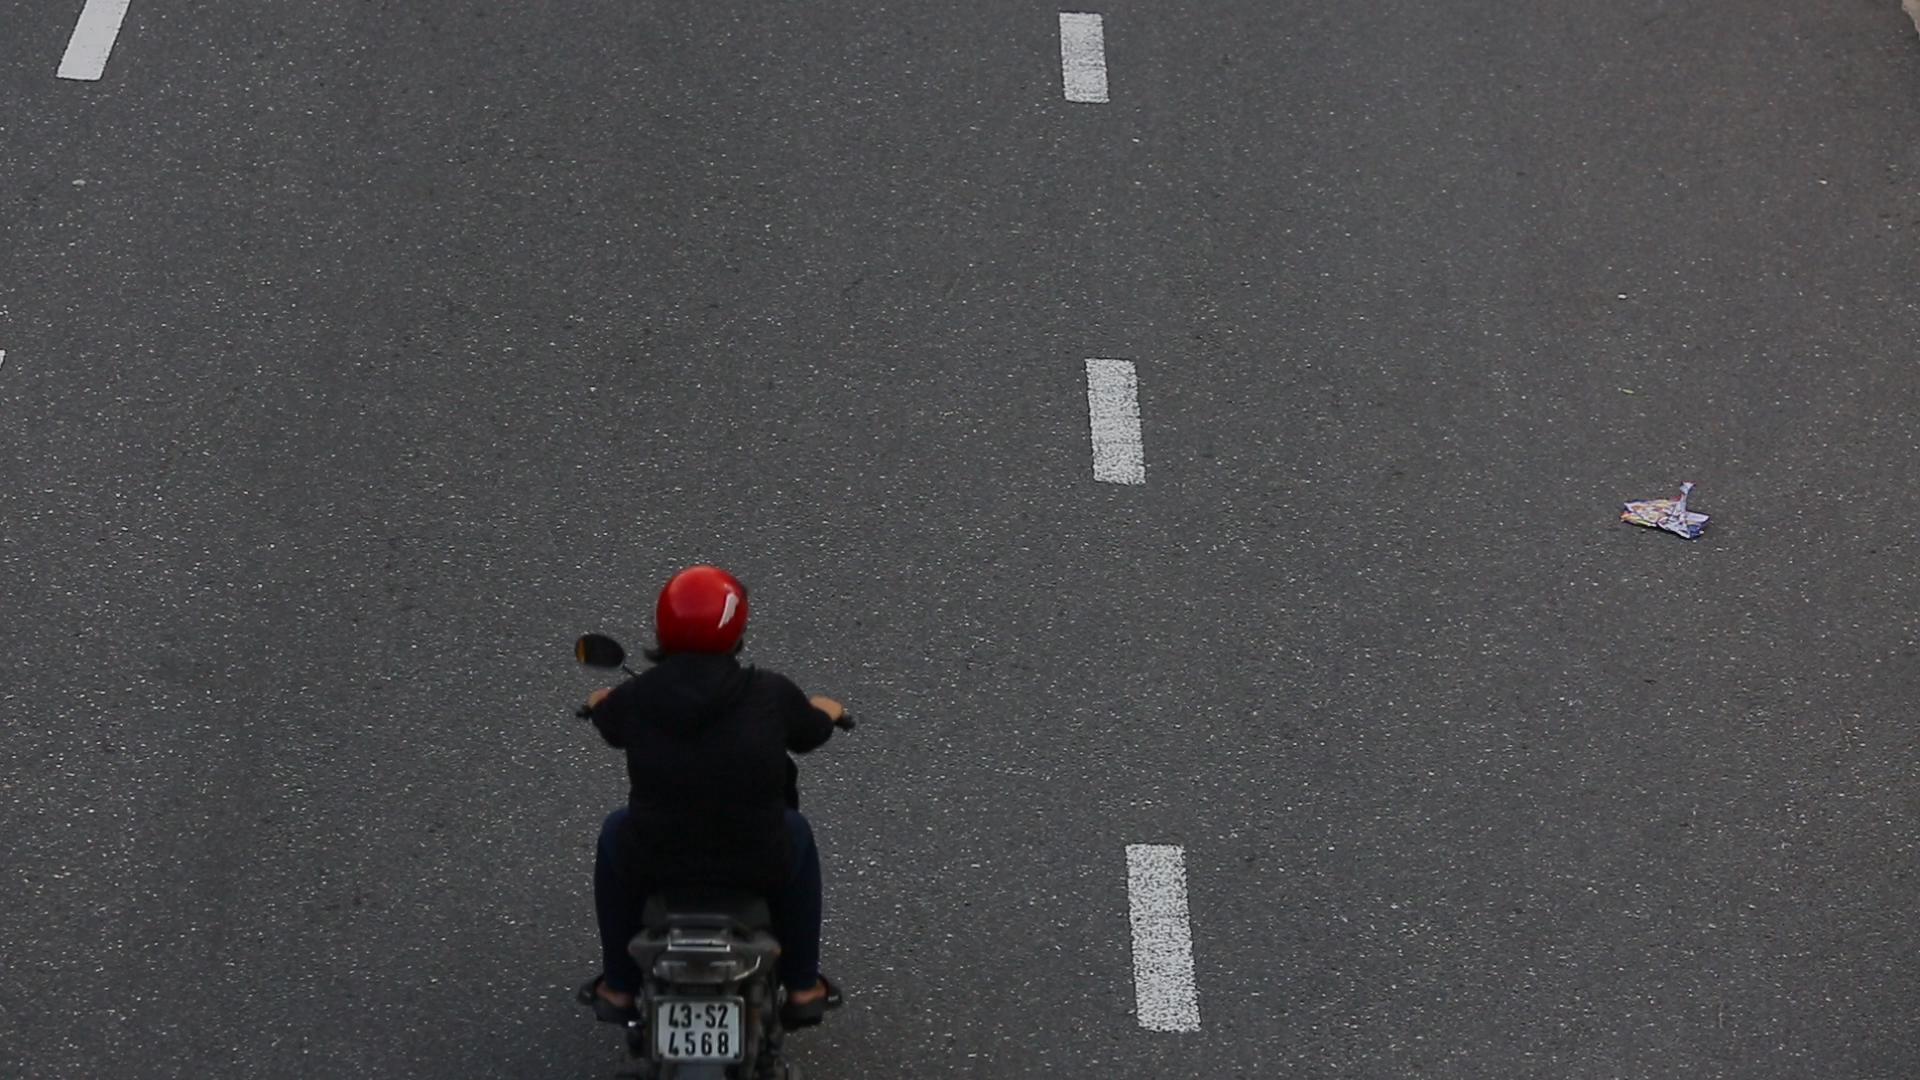motobike: (537, 541, 874, 1080)
